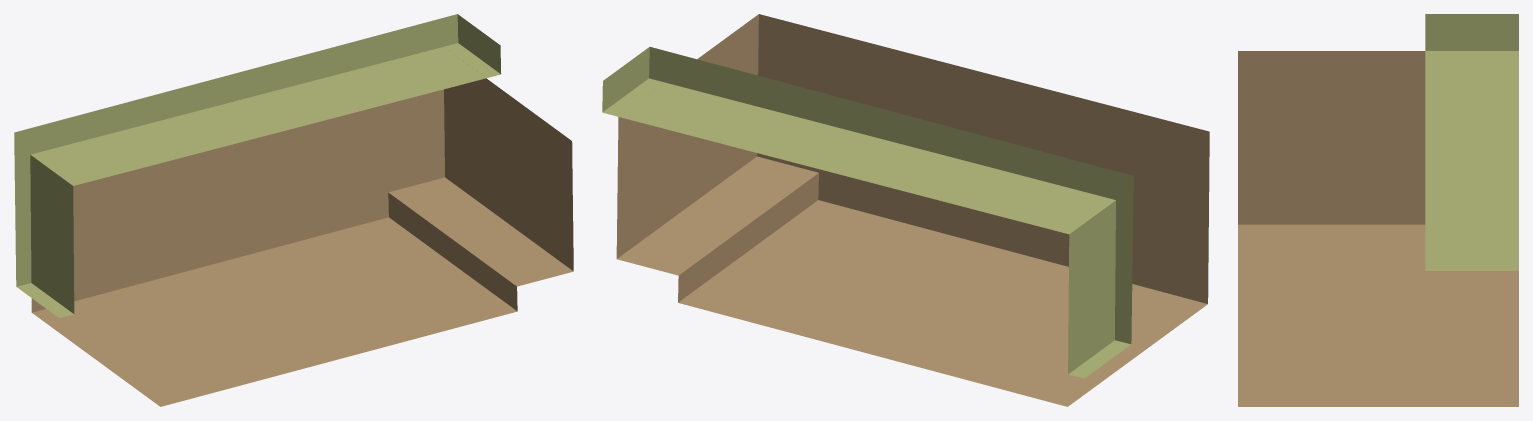
The picture shows the model from 3 angles, left to right: view 1: azimuth 30°, elevation 25°; view 2: azimuth 150°, elevation 25°; view 3: azimuth 270°, elevation 25°; orthographic projection. The views are drawn at different scales.
Visible parts, largest first — view 1: 0_0_1_1_3_2_1_2_0; view 2: 0_0_1_1_3_2_1_2_0; view 3: 0_0_1_1_3_2_1_2_0.
Boxes of the visible parts, bbox=[...] form: 0_0_1_1_3_2_1_2_0: bbox=[14, 14, 573, 406]; 0_0_1_1_3_2_1_2_0: bbox=[602, 14, 1209, 406]; 0_0_1_1_3_2_1_2_0: bbox=[1238, 14, 1518, 406].
Size of the model in its own units: 53.78 by 22.55 by 27.
